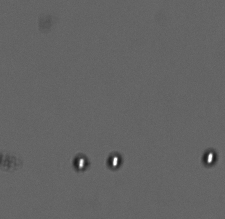Living Cell: (70, 153, 91, 171), (201, 146, 217, 167), (106, 151, 123, 170)
